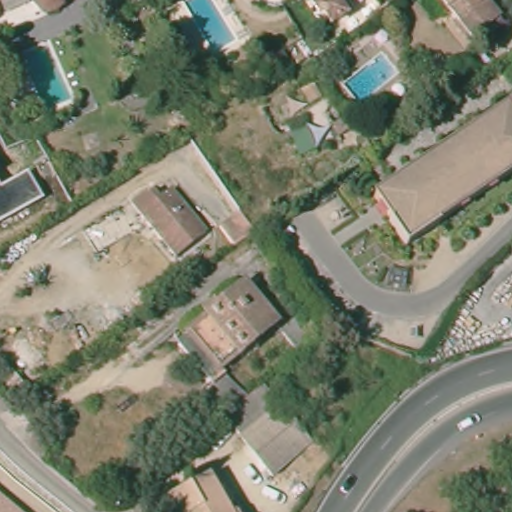pool: (16, 38, 79, 113), (336, 51, 402, 105), (179, 1, 241, 55)
